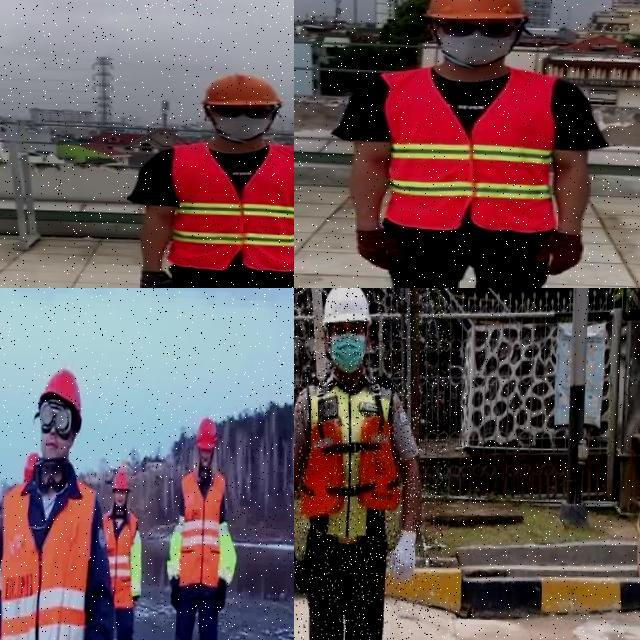helmet: (196, 71, 284, 109), (34, 366, 86, 421), (424, 0, 527, 23), (316, 288, 377, 326), (194, 414, 217, 452), (112, 466, 131, 494), (24, 450, 39, 476)
vest: (374, 66, 560, 230), (159, 143, 294, 276), (299, 377, 404, 541), (0, 473, 91, 640), (176, 466, 227, 592), (98, 510, 139, 610)
